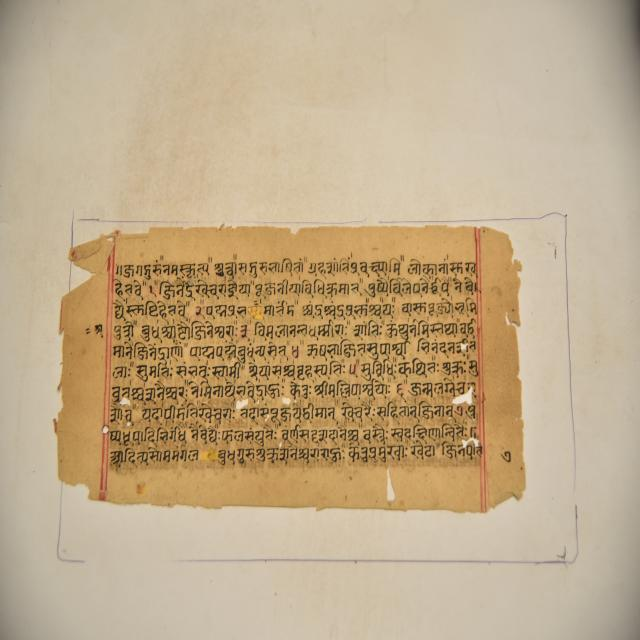text_paragraph: (73, 233, 520, 502)
